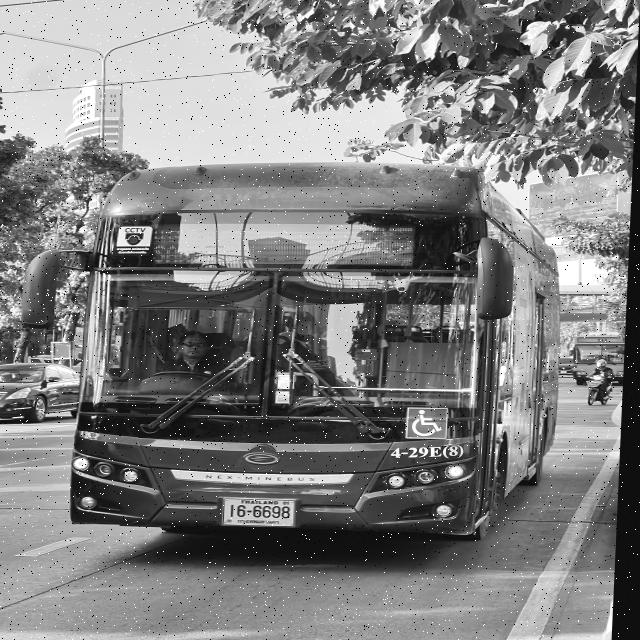BMTA-bus: (573, 330, 628, 386)
Bus Line Number: (318, 221, 423, 270), (599, 338, 612, 343)
Bus Side Number: (389, 444, 469, 460), (617, 376, 627, 378)
Destination Sign: (152, 221, 264, 266), (613, 357, 628, 363)
TSB-Bus: (64, 159, 577, 553)
